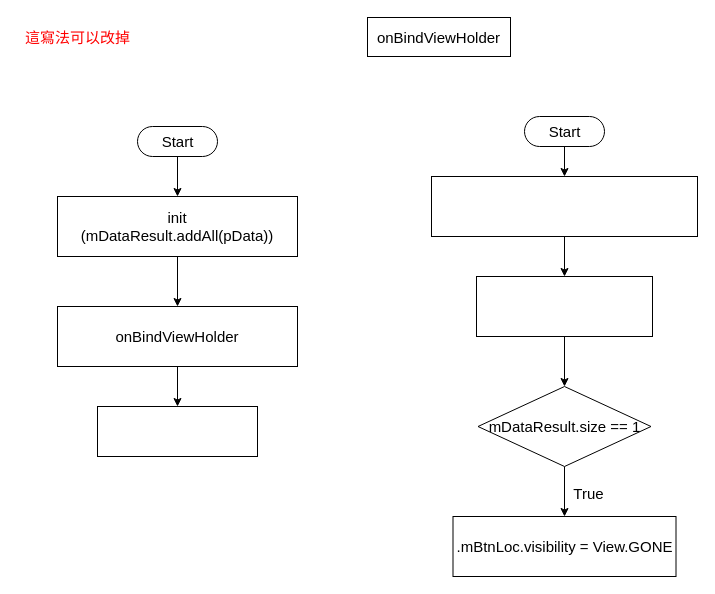
Some shapes in this 715 by 594 pixel diagram are drawn without their labels. The box of each missing label's shape, as (x1, y1, x2, y2) in pixels:
mBtnLoc.tag = pPosition: (476, 276, 652, 336)
mListData = mDataResult[pPosition]: (430, 176, 698, 236)
ViewHolder: (96, 406, 258, 456)
